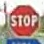stop: (7, 4, 39, 36)
